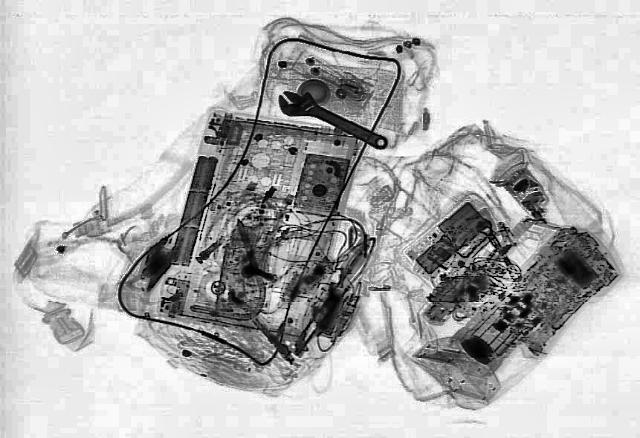Wrench: (264, 82, 398, 158)
